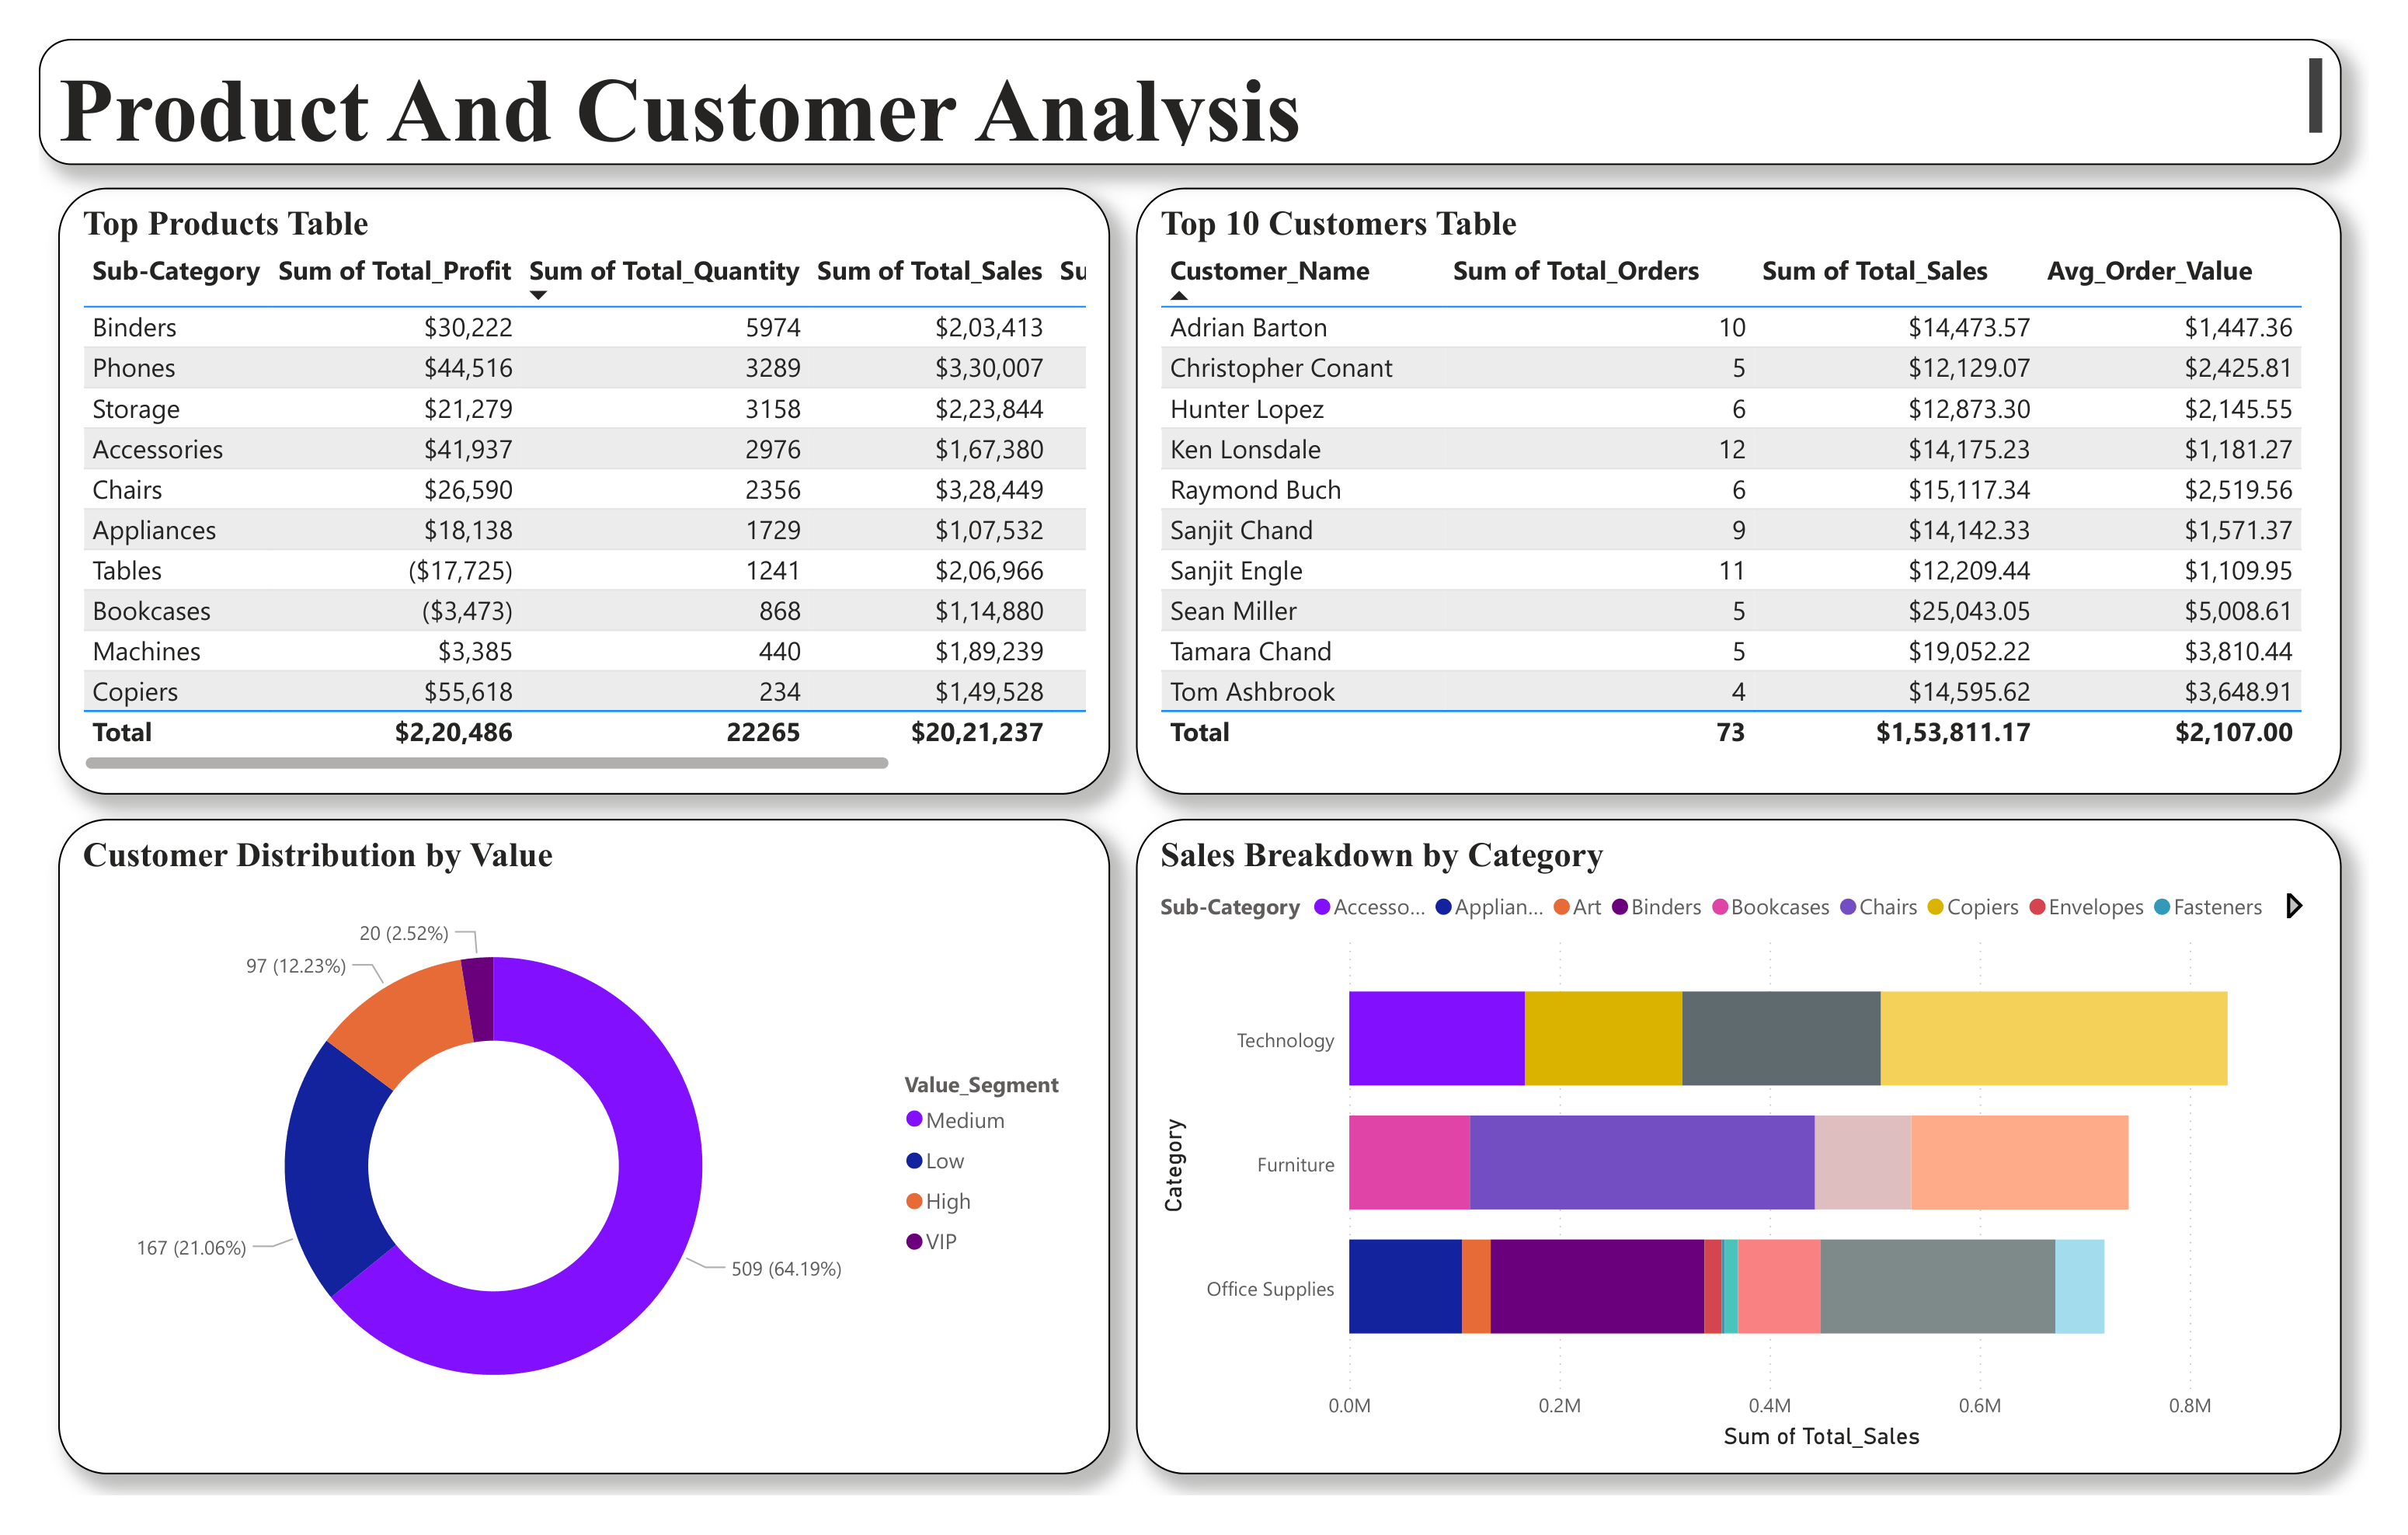

The dashboard page shown, as its layout file describes it:
{"tool":"powerbi","page":{"name":"Product & Customer  Analysis","canvas":[1280,720],"ordinal":1},"visuals":[{"type":"tableEx","title":"Top Products Table","fields":{"Values":["product_summary.Sub-Category","Sum(product_summary.Total_Profit)","Sum(product_summary.Total_Quantity)","Sum(product_summary.Total_Sales)","Sum(product_summary.Profit_Margin)"]},"box":[0,77.1,641.4,304.3],"z":0},{"type":"donutChart","title":"Customer Distribution by Value","fields":{"Y":["CountNonNull(customer_summary.Customer ID)"],"Category":["customer_summary.Value_Segment"]},"box":[0,381.4,641.4,338.6],"z":1000},{"type":"tableEx","title":"Top 10 Customers Table","fields":{"Values":["customer_summary.Customer_Name","Sum(customer_summary.Total_Orders)","Sum(customer_summary.Total_Sales)","customer_summary.Avg_Order_Value"]},"box":[661.4,78.6,618.6,304.3],"z":2000},{"type":"barChart","title":"Sales Breakdown by Category","fields":{"Category":["product_summary.Category"],"Y":["Sum(product_summary.Total_Sales)"],"Series":["product_summary.Sub-Category"]},"box":[661.4,382.9,618.6,337.1],"z":3000},{"type":"textbox","title":"Product & Customer Analysis","box":[0,0,1280,78.6],"z":4000}]}

Visuals, with their boxes on the page's 1280x720 design canvas (x1, y1, x2, y2). These are canvas units, not pixel positions in the 2408x1535 screenshot, which may show the page scaled, cropped or inside an application window:
"Top Products Table" tableEx: Rect(0, 77, 641, 381)
"Customer Distribution by Value" donutChart: Rect(0, 381, 641, 720)
"Top 10 Customers Table" tableEx: Rect(661, 79, 1280, 383)
"Sales Breakdown by Category" barChart: Rect(661, 383, 1280, 720)
"Product & Customer Analysis" textbox: Rect(0, 0, 1280, 79)
